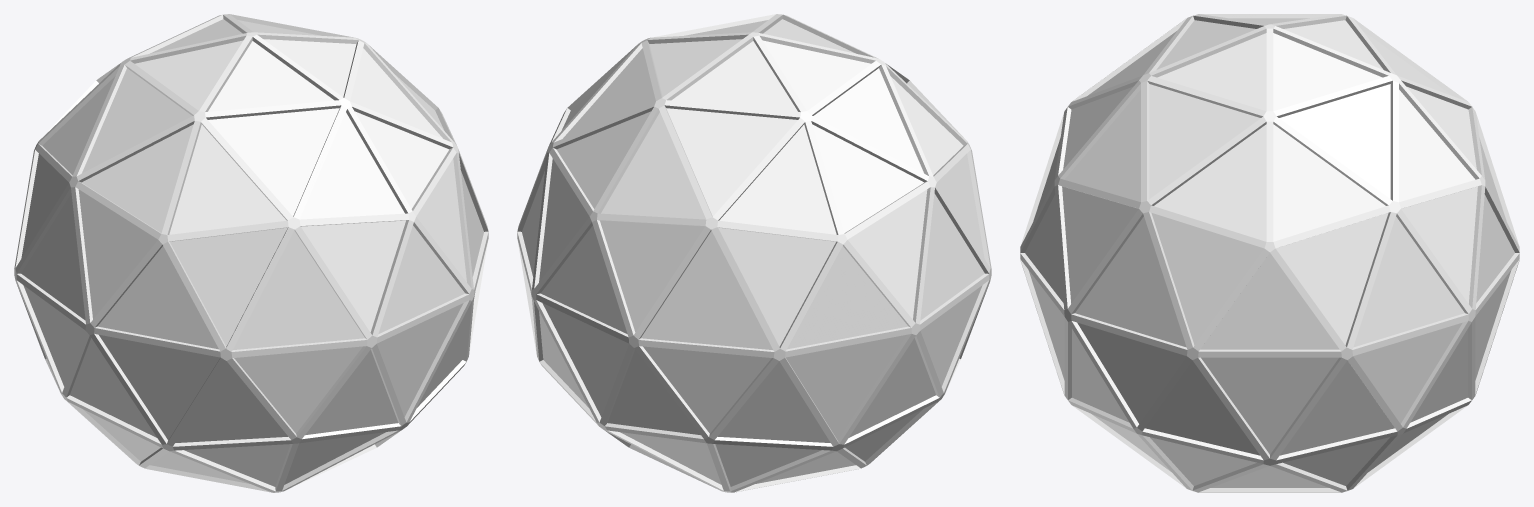
Rendered from CommunicationSystem.fbx.
3 renders of one model, left to right at view 1: azimuth 30°, elevation 25°; view 2: azimuth 150°, elevation 25°; view 3: azimuth 270°, elevation 25°, orthographic. The views are drawn at different scales.
Visible parts, largest first — view 1: Icosphere; view 2: Icosphere; view 3: Icosphere.
Boxes of the visible parts, x1,y1,x2,y2 form: Icosphere: [14, 14, 488, 492]; Icosphere: [517, 14, 991, 492]; Icosphere: [1020, 14, 1519, 492].
Bounding box in the file's own units: 193 × 202 × 202.
